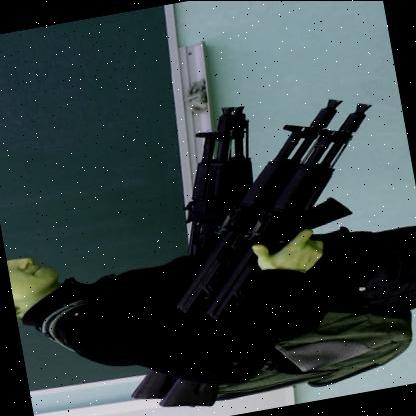rifle: (118, 102, 415, 414), (79, 98, 322, 407)
